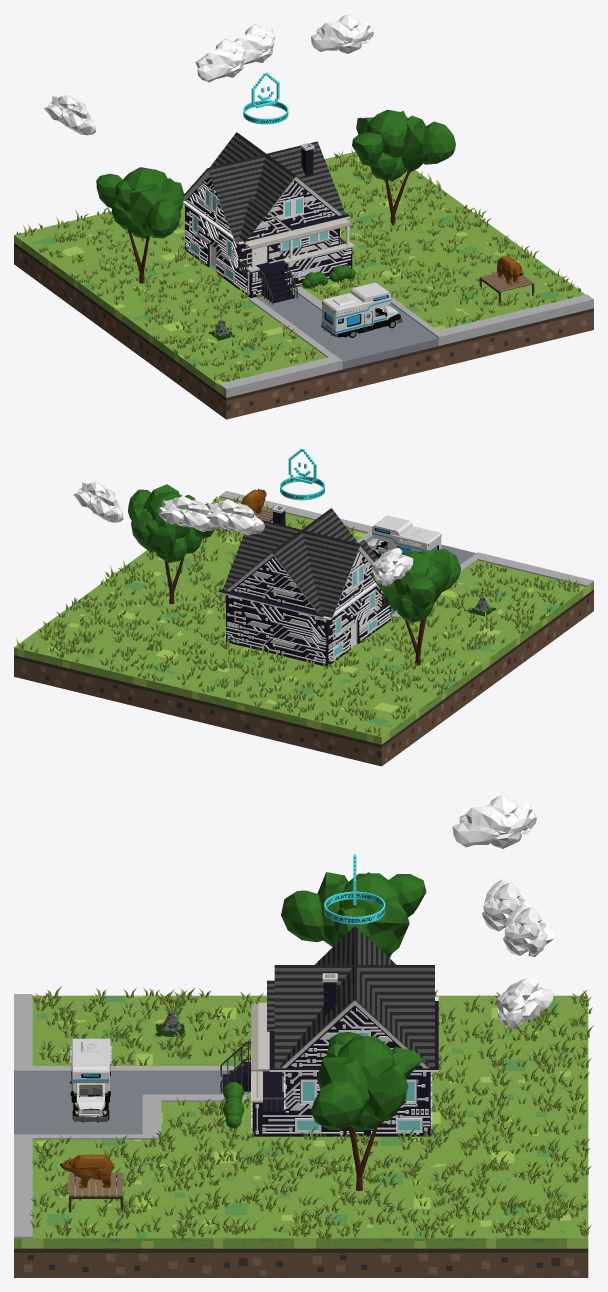
The picture shows the model from 3 angles, top to bottom: view 1: azimuth 30°, elevation 25°; view 2: azimuth 150°, elevation 25°; view 3: azimuth 270°, elevation 25°; orthographic projection. The views are drawn at different scales.
Visible parts, largest first — view 1: Cube.006, Cube.918, Circle.012_Grass_0.192, Cube.007, tree, tree.001, VEHICLES_CAMPER, TYPE_PREMIUM, Cube.009, ANIMAL_OSO; view 2: Cube.006, Cube.918, Circle.012_Grass_0.192, Cube.007, tree.001, tree, VEHICLES_CAMPER, TYPE_PREMIUM, ANIMAL_OSO; view 3: Cube.006, Circle.012_Grass_0.192, Cube.918, tree, Cube.007, tree.001, VEHICLES_CAMPER, ANIMAL_OSO, TYPE_PREMIUM, Cube.009.
Part boxes in pixels (bbox=[...]): Cube.006: bbox=[14, 151, 593, 419]; Cube.918: bbox=[183, 132, 354, 304]; Circle.012_Grass_0.192: bbox=[16, 149, 580, 381]; Cube.007: bbox=[44, 14, 373, 135]; tree: bbox=[352, 109, 455, 225]; tree.001: bbox=[96, 167, 184, 283]; VEHICLES_CAMPER: bbox=[321, 282, 402, 337]; TYPE_PREMIUM: bbox=[243, 72, 288, 124]; Cube.009: bbox=[479, 273, 534, 303]; ANIMAL_OSO: bbox=[497, 256, 523, 285]; Cube.006: bbox=[14, 491, 593, 766]; Cube.918: bbox=[218, 505, 393, 666]; Circle.012_Grass_0.192: bbox=[16, 496, 580, 736]; Cube.007: bbox=[73, 481, 413, 586]; tree.001: bbox=[370, 549, 460, 665]; tree: bbox=[128, 484, 214, 604]; VEHICLES_CAMPER: bbox=[367, 515, 441, 558]; TYPE_PREMIUM: bbox=[280, 448, 324, 500]; ANIMAL_OSO: bbox=[241, 489, 266, 513]; Cube.006: bbox=[14, 994, 588, 1277]; Circle.012_Grass_0.192: bbox=[29, 986, 593, 1239]; Cube.918: bbox=[220, 926, 438, 1136]; tree: bbox=[311, 1032, 422, 1190]; Cube.007: bbox=[452, 795, 553, 1029]; tree.001: bbox=[281, 872, 426, 957]; VEHICLES_CAMPER: bbox=[70, 1038, 111, 1122]; ANIMAL_OSO: bbox=[60, 1154, 114, 1187]; TYPE_PREMIUM: bbox=[324, 854, 385, 924]; Cube.009: bbox=[69, 1172, 122, 1212].
Size of the model in its own units: 4071 by 2251 by 4040.
Materials: 43 (5 with a texture image).
